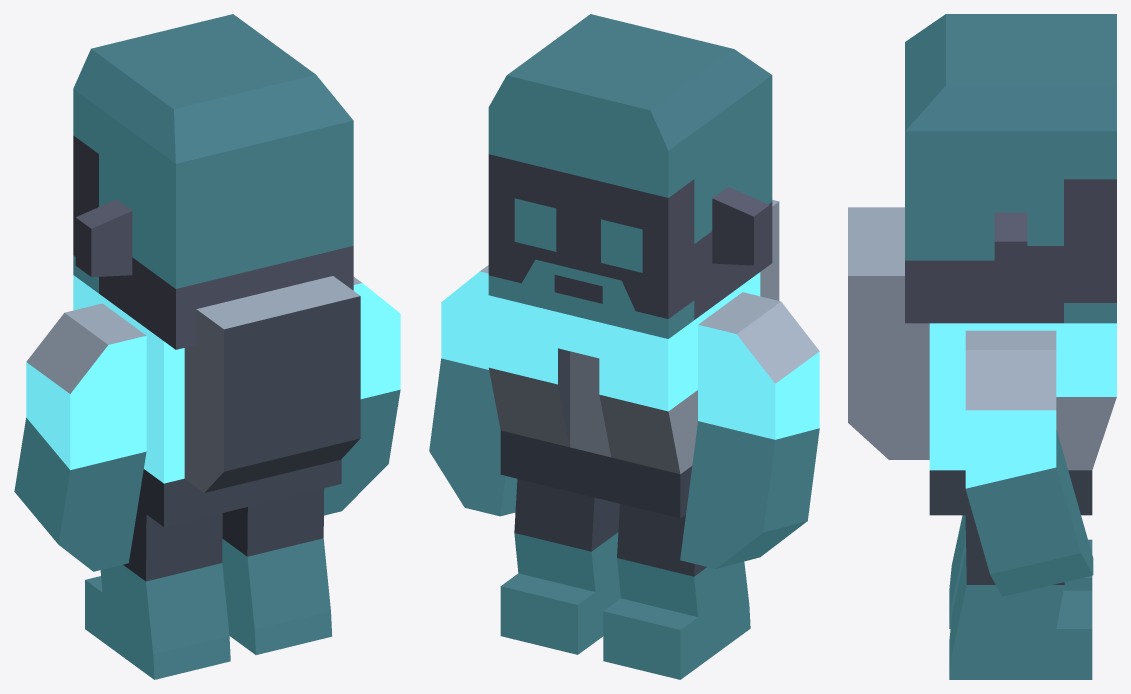
The model's file is astronautB.glb.
3 renders of one model, left to right at view 1: azimuth 30°, elevation 25°; view 2: azimuth 150°, elevation 25°; view 3: azimuth 270°, elevation 25°, orthographic. The views are drawn at different scales.
Parts seen in each view (by area): view 1: head, body, armLeft, legLeft, legRight, armRight; view 2: head, body, armLeft, legLeft, legRight, armRight; view 3: head, body, armRight, legRight, legLeft.
Part boxes in pixels (x1,y1,x2,y2): head: (73,14,353,349); body: (73,275,360,527); armLeft: (14,303,146,571); legLeft: (85,508,230,679); legRight: (222,488,332,654); armRight: (324,277,400,515); head: (488,14,772,338); body: (488,200,779,518); armLeft: (680,292,819,568); legLeft: (603,504,750,679); legRight: (500,478,620,654); armRight: (429,265,517,516); head: (905,14,1116,323); body: (848,207,1116,515); armRight: (965,330,1093,596); legRight: (949,515,1092,679); legLeft: (949,515,1092,628).
Bounding box in the file's own units: 0.4832 × 0.7932 × 0.33.
